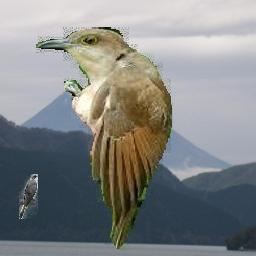Cuckoo: (37, 27, 174, 251), (20, 175, 39, 220)
